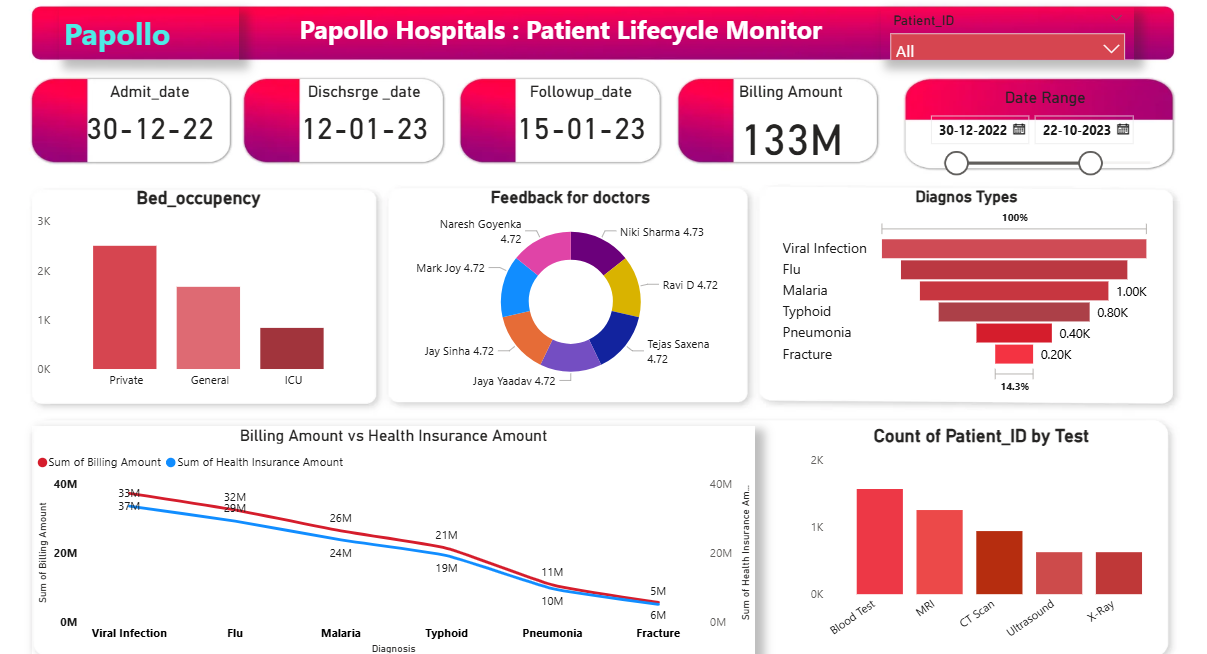

Layout of this report page (visuals, bound fields, positions):
{"tool":"powerbi","page":{"name":"Page 1","canvas":[1280,720],"ordinal":0},"visuals":[{"type":"textbox","box":[294.3,15.9,602.8,55.7],"z":0},{"type":"slicer","fields":{"Values":["Sheet1.Patient_ID"]},"box":[935.3,15.9,268.8,55.7],"z":1000},{"type":"card","title":"Admit_date","fields":{"Values":["Sheet1.Admit_Date"]},"box":[77.9,95.4,163.8,73.2],"z":2000},{"type":"card","title":"Dischsrge _date","fields":{"Values":["Sheet1.Discharge_Date"]},"box":[294.3,95.4,186.1,73.2],"z":3000},{"type":"card","title":"Followup_date","fields":{"Values":["Sheet1.Followup Date"]},"box":[532.9,95.4,168.6,73.2],"z":4000},{"type":"card","title":"Billing Amount","fields":{"Values":["Sheet1.Billing Amount"]},"box":[744.4,95.4,190.9,92.3],"z":5000},{"type":"slicer","title":"Date Range","fields":{"Values":["Sheet1.Admit_Date"]},"box":[975,101.8,268.8,105],"z":6000},{"type":"columnChart","title":"Bed_occupency","fields":{"Category":["Sheet1.Bed_Occupancy"],"Y":["Sheet1.Bed_Occupancy"]},"box":[35,206.8,353.1,222.7],"z":7000},{"type":"donutChart","title":"Feedback for doctors","fields":{"Category":["Sheet1.Doctor"],"Y":["Sheet1.Feedback"]},"box":[410.4,206.8,391.3,222.7],"z":8000},{"type":"funnel","title":"Diagnos Types","fields":{"Category":["Sheet1.Diagnosis"],"Y":["Sheet1.Patient_ID"]},"box":[825.5,206.8,400.8,222.7],"z":9000},{"type":"lineChart","title":"Billing Amount vs Health Insurance Amount","fields":{"Category":["Sheet1.Diagnosis"],"Y":["Sheet1.Billing Amount"],"Y2":["Sheet1.Health Insurance Amount"]},"box":[35,459.7,766.7,246.5],"z":10000},{"type":"textbox","box":[63.6,16,191,55.7],"z":11000},{"type":"columnChart","fields":{"Y":["Sheet1.Patient_ID"],"Category":["Sheet1.Test"]},"box":[839.8,459.7,404,246.5],"z":12000}]}

Visuals, with their boxes on the page's 1280x720 design canvas (x1, y1, x2, y2). These are canvas units, not pixel positions in the 1207x654 screenshot, which may show the page scaled, cropped or inside an application window:
textbox: BBox(294, 16, 897, 72)
slicer - Sheet1.Patient_ID: BBox(935, 16, 1204, 72)
"Admit_date" card: BBox(78, 95, 242, 169)
"Dischsrge _date" card: BBox(294, 95, 480, 169)
"Followup_date" card: BBox(533, 95, 702, 169)
"Billing Amount" card: BBox(744, 95, 935, 188)
"Date Range" slicer: BBox(975, 102, 1244, 207)
"Bed_occupency" columnChart: BBox(35, 207, 388, 430)
"Feedback for doctors" donutChart: BBox(410, 207, 802, 430)
"Diagnos Types" funnel: BBox(826, 207, 1226, 430)
"Billing Amount vs Health Insurance Amount" lineChart: BBox(35, 460, 802, 706)
textbox: BBox(64, 16, 255, 72)
columnChart - Sheet1.Patient_ID x Sheet1.Test: BBox(840, 460, 1244, 706)
